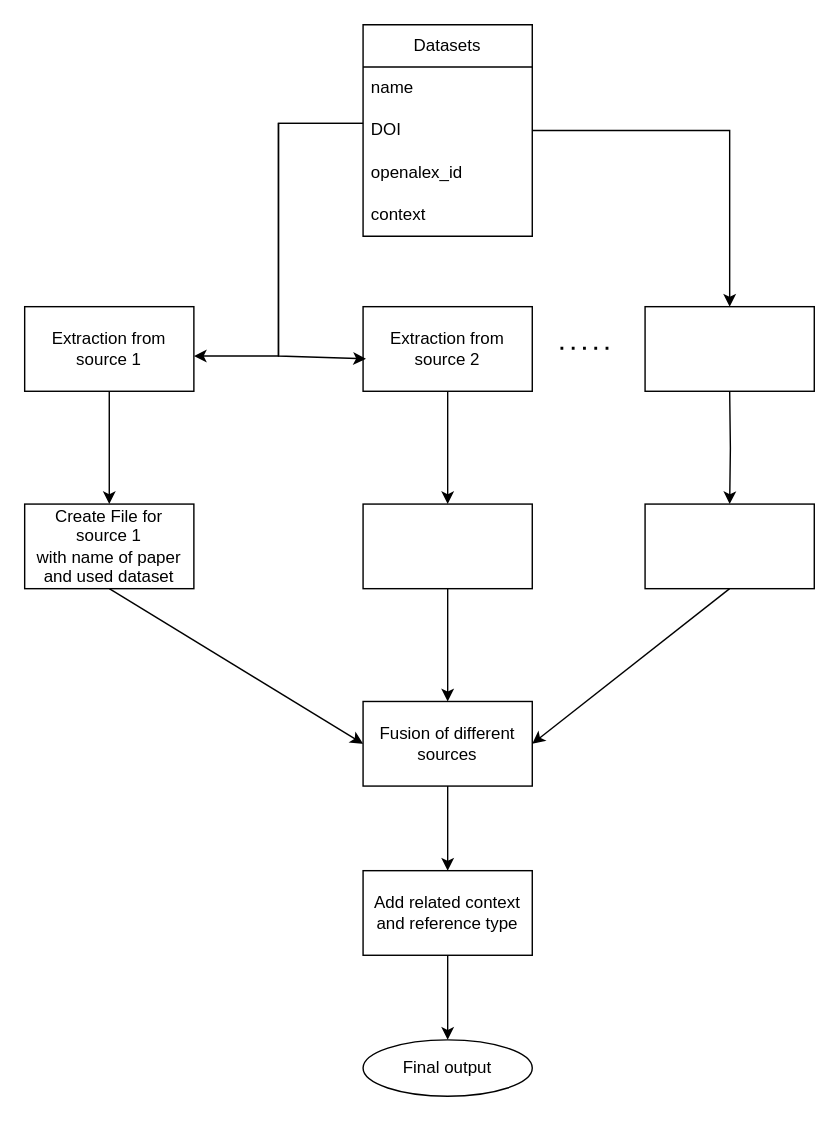
Image size: 839x1121. Some labels were removed from this diagram. The centre of each missing label's shape, as x and y in pixels:
"Create File for source 2 with name of paper and used dataset" belongs at (x=447, y=546).
"Create File for source N with name of paper and used dataset" belongs at (x=729, y=546).
"Extraction from source N" belongs at (x=729, y=348).
